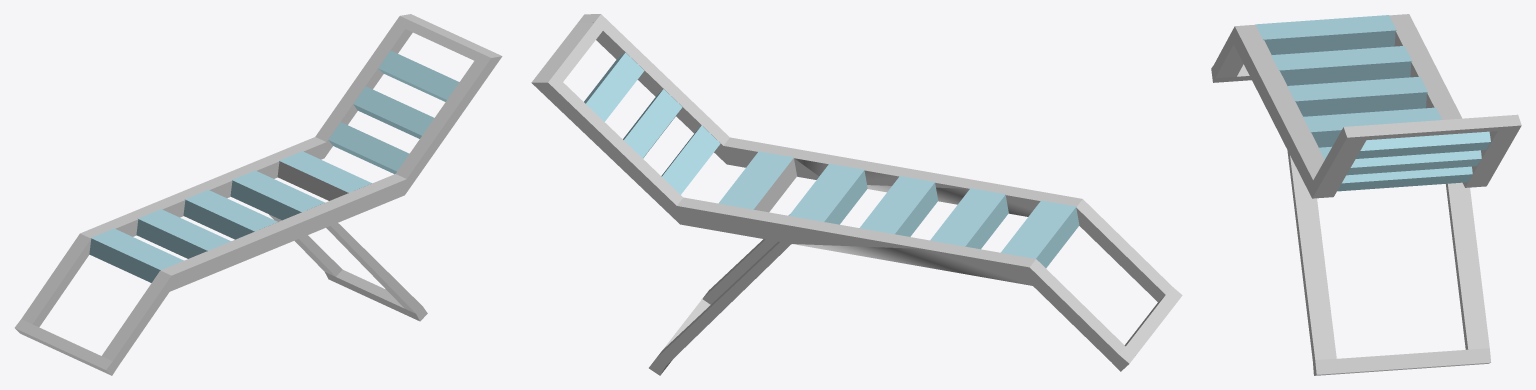
File: Silla_tumbona1.fbx
3 views of the same model, side by side, from view 1: azimuth 30°, elevation 25°; view 2: azimuth 150°, elevation 25°; view 3: azimuth 270°, elevation 25° (orthographic). The views are drawn at different scales.
Parts seen in each view (by area): view 1: B_CHAIR1; view 2: B_CHAIR1; view 3: B_CHAIR1.
Part boxes in pixels (x1=…): B_CHAIR1: x1=14, y1=14, x2=502, y2=375; B_CHAIR1: x1=531, y1=14, x2=1182, y2=375; B_CHAIR1: x1=1211, y1=14, x2=1521, y2=375.
Size of the model in its own units: 1.49 by 0.7137 by 0.6625.
